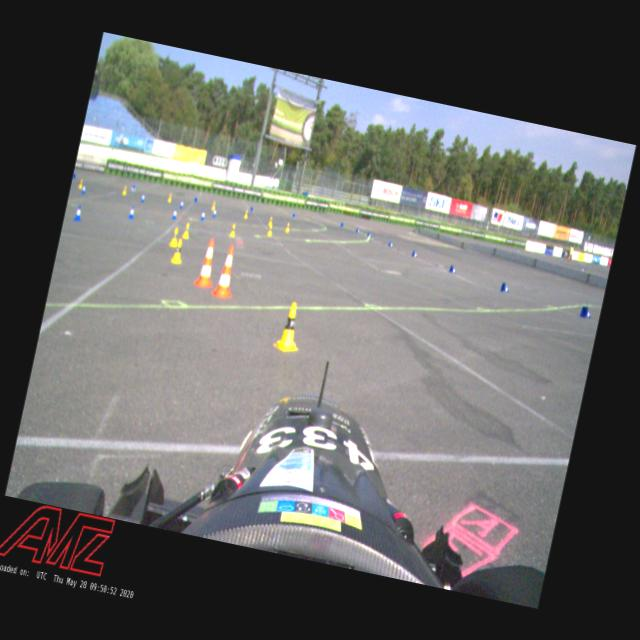blue_cone: (72, 205, 84, 222), (578, 305, 592, 319), (126, 203, 136, 220), (499, 282, 511, 292), (198, 208, 206, 222), (138, 190, 146, 204), (170, 207, 178, 220), (80, 182, 87, 195), (448, 264, 457, 274), (178, 198, 184, 210), (212, 206, 218, 218), (411, 250, 418, 258), (387, 240, 394, 248), (366, 232, 372, 238)
large_orange_cone: (209, 242, 242, 300), (191, 236, 223, 290)
yellow_cone: (271, 298, 307, 354), (170, 237, 187, 266), (168, 225, 180, 248), (180, 220, 192, 240), (228, 222, 237, 238), (266, 225, 274, 238), (120, 184, 128, 196), (76, 177, 84, 189), (165, 192, 172, 204), (242, 208, 248, 219), (210, 200, 216, 210), (267, 216, 273, 226), (284, 222, 290, 232)
